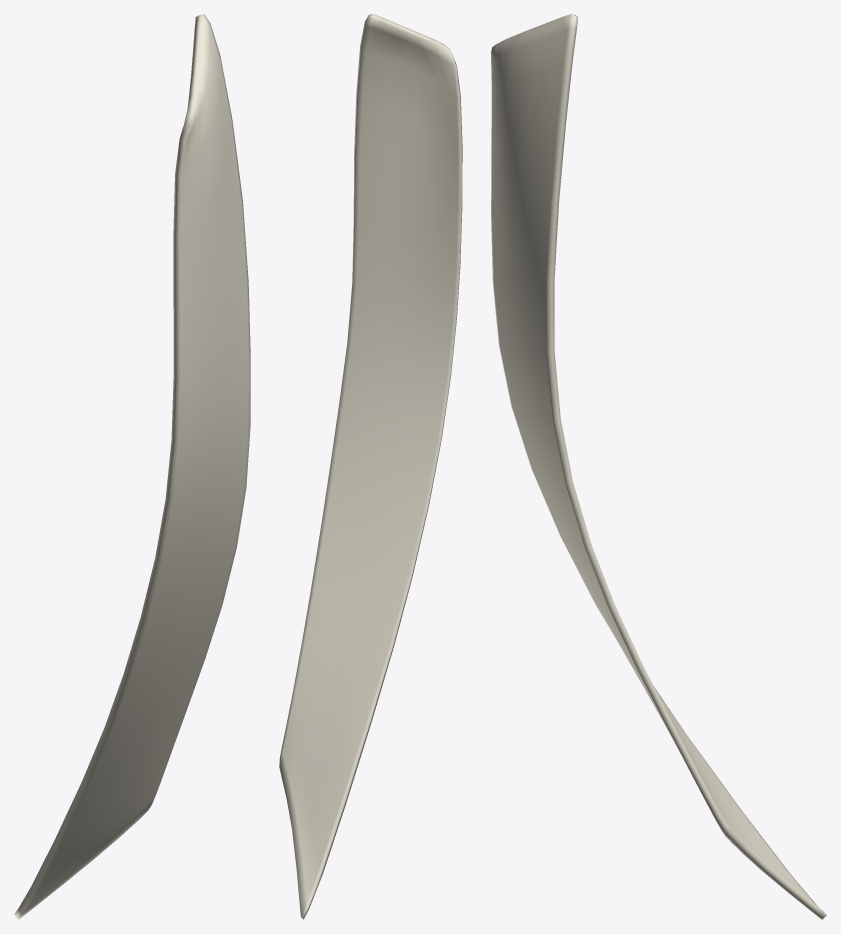
3 views of the same model, side by side, from view 1: azimuth 30°, elevation 25°; view 2: azimuth 150°, elevation 25°; view 3: azimuth 270°, elevation 25° (orthographic). The views are drawn at different scales.
Visible parts, largest first — view 1: ZA_8a0594f54357ae10; view 2: ZA_8a0594f54357ae10; view 3: ZA_8a0594f54357ae10.
Part boxes in pixels (x1,y1,x2,y2): ZA_8a0594f54357ae10: (14, 14, 250, 919); ZA_8a0594f54357ae10: (279, 14, 462, 919); ZA_8a0594f54357ae10: (491, 14, 826, 919).
Bounding box in the file's own units: 0.00875 × 0.0751 × 0.0246.
